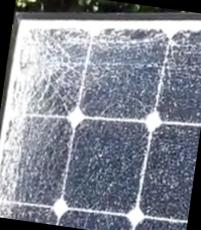Crack: (5, 15, 130, 141), (0, 75, 35, 218)
